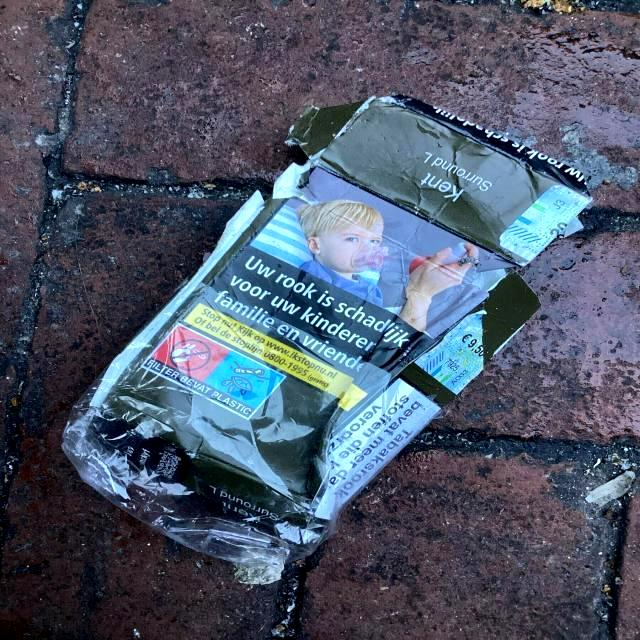Paper: (50, 86, 600, 590)
